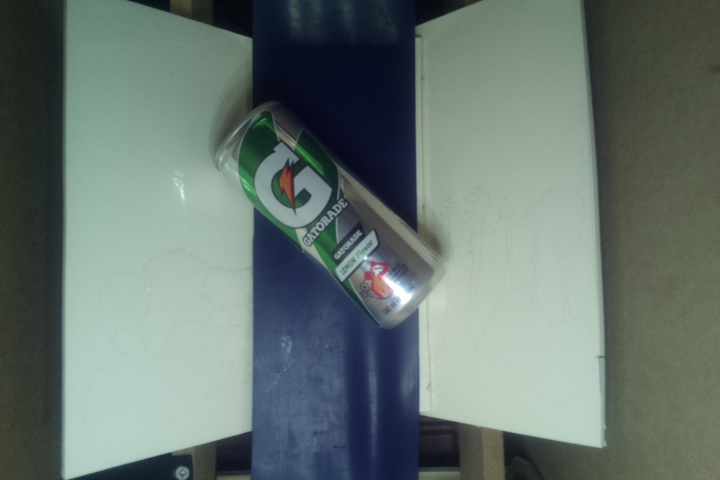can: (213, 98, 449, 331)
